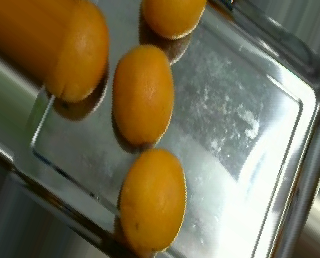Orange: (120, 148, 188, 254), (112, 43, 176, 147)
